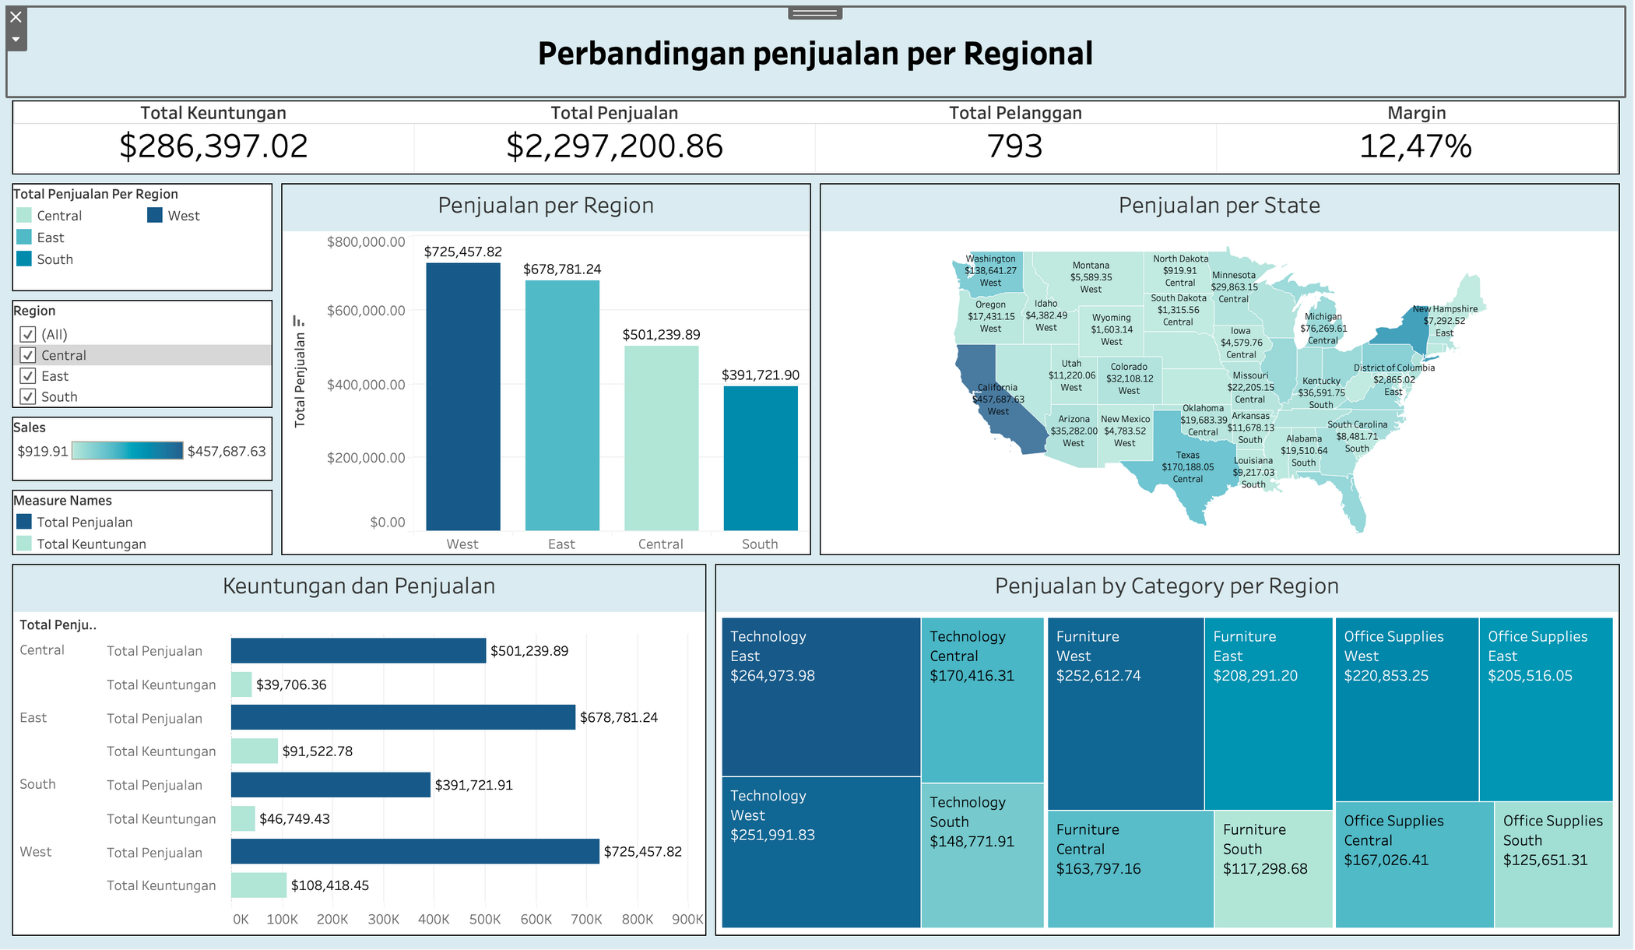

This screenshot's page, from the dashboard's own definition file:
{"tool":"tableau","page":{"name":"Dashboard_fix","canvas":[1000,1000],"units":"permille","ordinal":0},"visuals":[{"type":"text","box":[5.3,9.2,989.3,93.2]},{"type":"worksheet","title":"KPIs","mark":"Automatic","box":[5.3,102.4,989.3,87.5]},{"type":"legend","title":"Penjualan per Region","param":"[federated.10kieog0qmqdjk153r6nl1c9tqxo].[none:Region (copy)_0101961937436672:nk","box":[5.3,189.8,164.5,122.7]},{"type":"worksheet","title":"Penjualan per Region","mark":"Automatic","rows":["Sales"],"cols":["Region (copy)_0101961937436672"],"box":[169.9,189.8,329.7,400.5]},{"type":"worksheet","title":"Penjualan per State","mark":"Automatic","box":[499.6,189.8,495.1,400.5]},{"type":"filter","title":"Penjualan per State","param":"[federated.10kieog0qmqdjk153r6nl1c9tqxo].[none:Region:nk]","box":[5.3,312.6,164.5,122.7]},{"type":"legend","title":"Penjualan per State","param":"[federated.10kieog0qmqdjk153r6nl1c9tqxo].[sum:Sales:qk]","box":[5.3,435.3,164.5,76.9]},{"type":"legend","title":"Keuntungan dan Penjualan","param":"[federated.10kieog0qmqdjk153r6nl1c9tqxo].[:Measure Names]","box":[5.3,512.2,164.5,78.1]},{"type":"worksheet","title":"Keuntungan dan Penjualan","mark":"Automatic","rows":["Region (copy)_0101961937436672"],"box":[5.3,590.3,430.2,400.5]},{"type":"worksheet","title":"Penjualan by Category per Region","mark":"Automatic","box":[435.6,590.3,559.1,400.5]}]}

Visuals, with their boxes on the dashboard's canvas, which has no fixed pixel size, in thousandths of its width and height (x1, y1, x2, y2). These are canvas units, not pixel positions in the 1635x950 screenshot, which may show the page scaled, cropped or inside an application window:
text: <box>5,9,995,102</box>
"KPIs" worksheet: <box>5,102,995,190</box>
"Penjualan per Region" legend: <box>5,190,170,312</box>
"Penjualan per Region" worksheet: <box>170,190,500,590</box>
"Penjualan per State" worksheet: <box>500,190,995,590</box>
"Penjualan per State" filter: <box>5,313,170,435</box>
"Penjualan per State" legend: <box>5,435,170,512</box>
"Keuntungan dan Penjualan" legend: <box>5,512,170,590</box>
"Keuntungan dan Penjualan" worksheet: <box>5,590,436,991</box>
"Penjualan by Category per Region" worksheet: <box>436,590,995,991</box>
